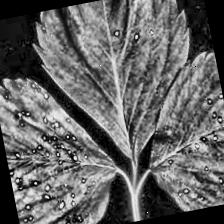Leaf Spot: (26, 0, 215, 184), (0, 60, 128, 224), (129, 50, 224, 217)
